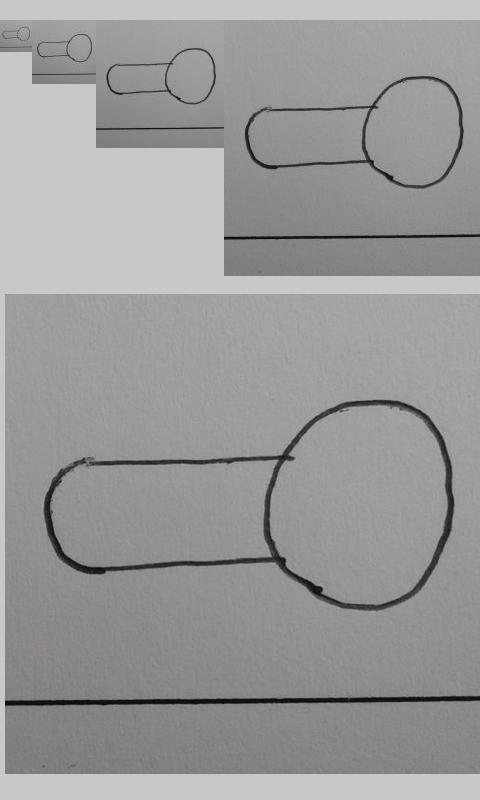switch: (41, 399, 456, 612), (245, 75, 466, 190), (107, 47, 217, 105), (37, 33, 93, 63), (1, 26, 30, 41)
